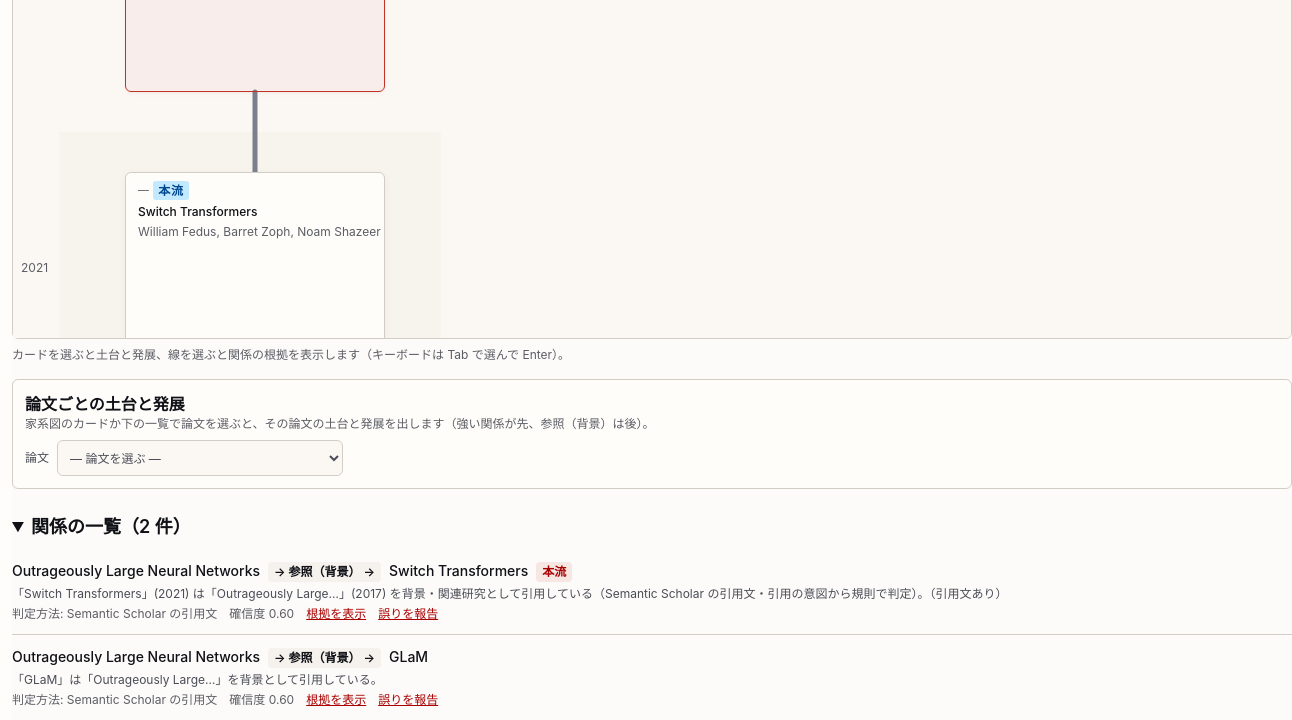
Scenario: LineageTree evidence UX (R2 UX P0-1 / P0-2) › lists the visible relations under the graph and opens evidence from the list
(page scrolled)
Expected: the heading "関係の一覧（2 件）" is shown, [31, 516, 191, 537]
Expected: the number of list items is 2, [12, 549, 1291, 635]; [12, 648, 438, 712]
Click the 1st button "根拠を表示". click: (336, 614)
box: [306, 602, 366, 626]
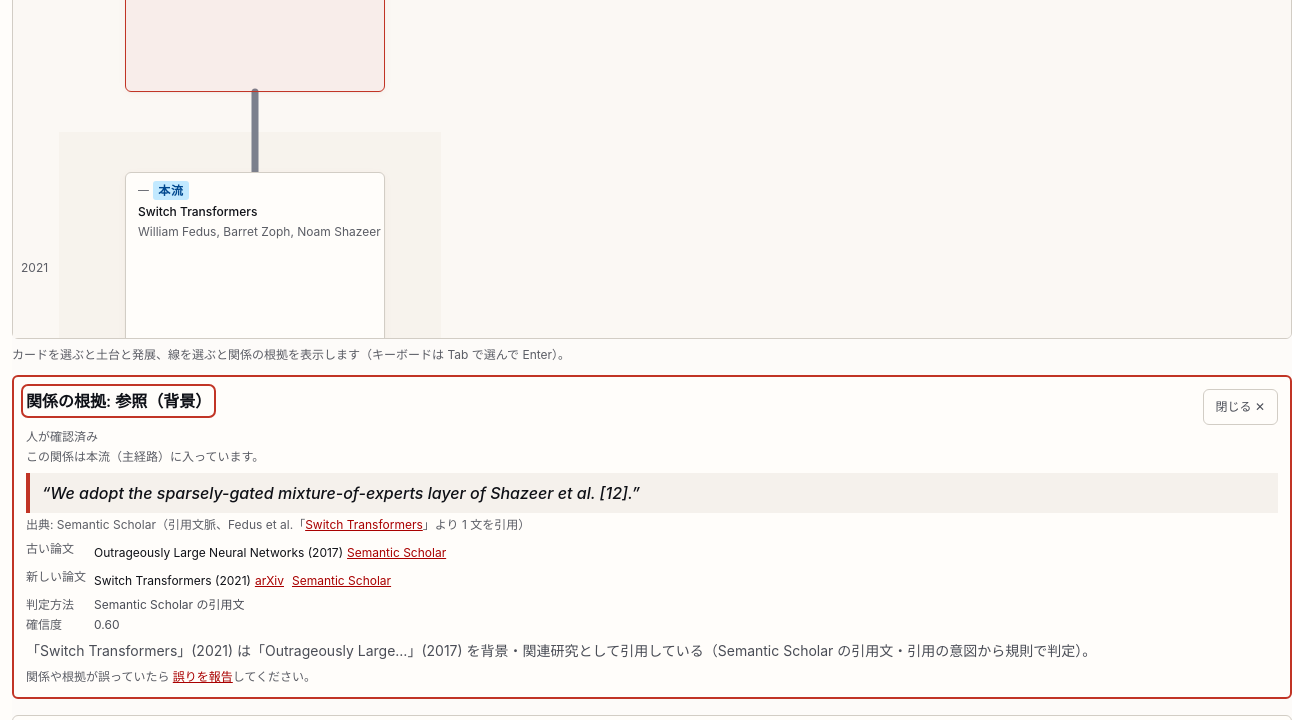
Expected: the element with test id "edge-evidence-panel" is shown, [12, 375, 1291, 699]
